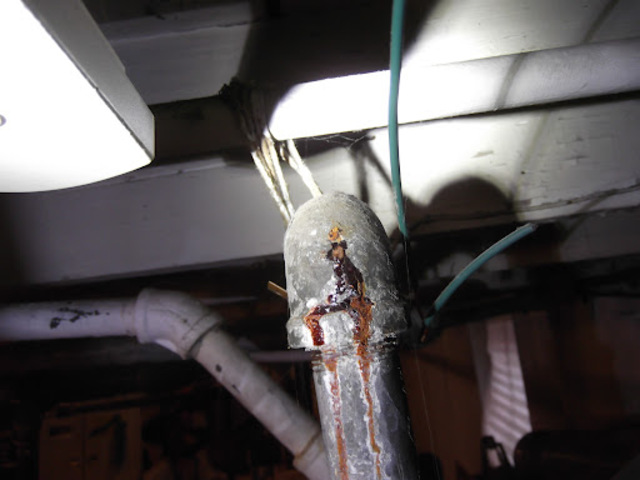Moderate: (287, 223, 402, 477)
